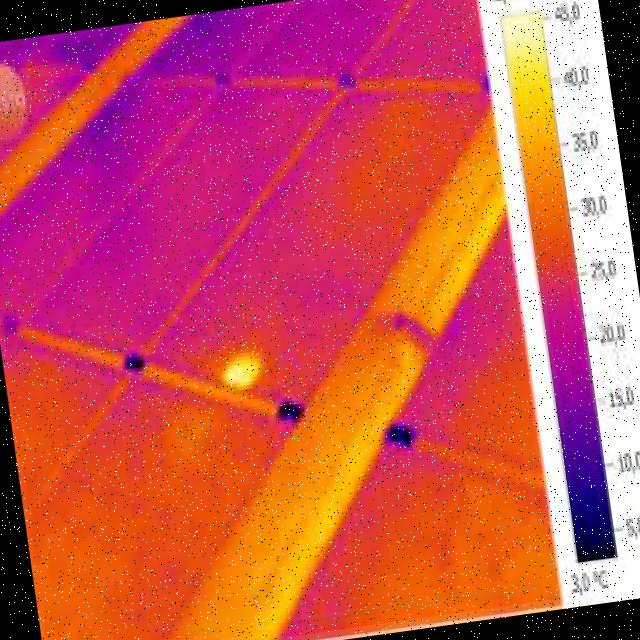Hotspot: (214, 339, 272, 403)
